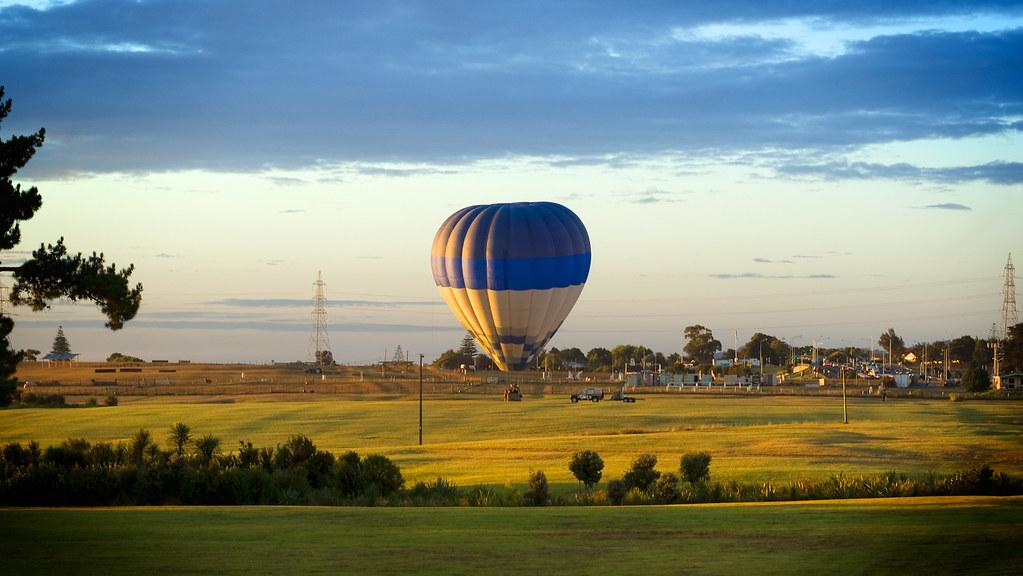balloon: (430, 200, 593, 372)
